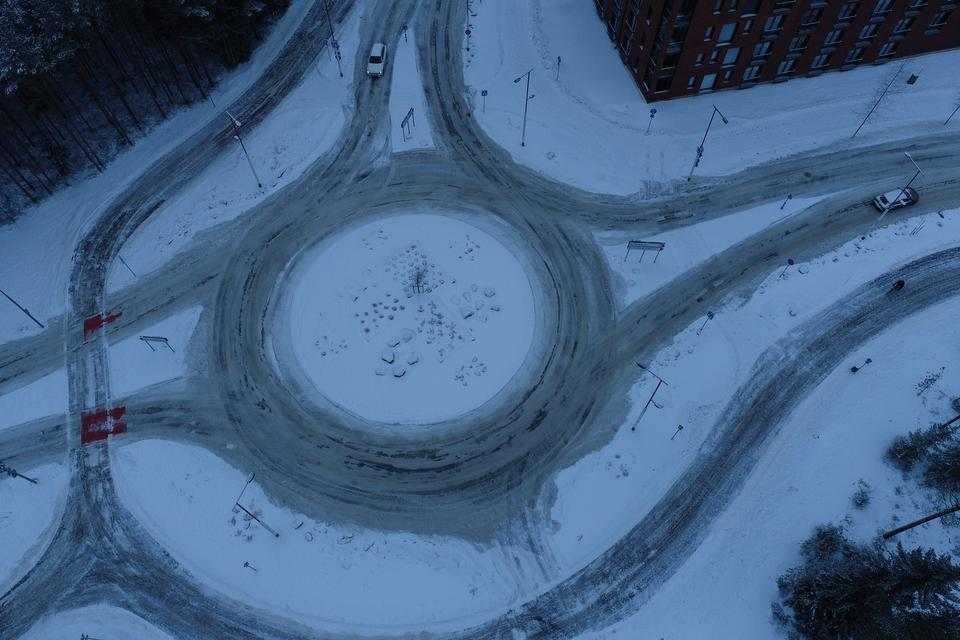intersection: (44, 270, 138, 472)
roundabout: (155, 104, 740, 640)
